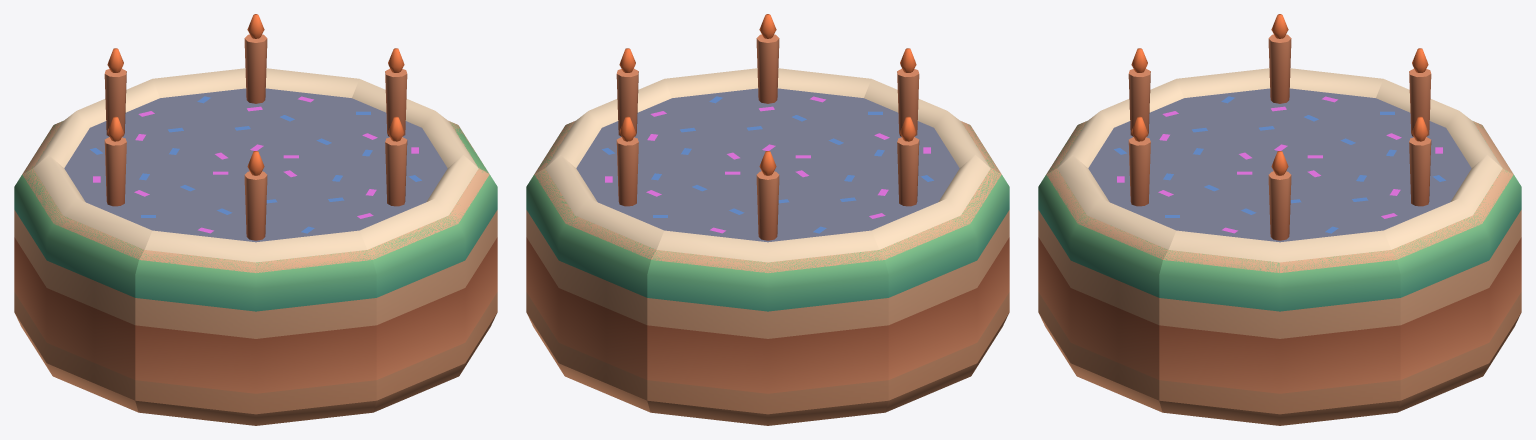
The model's file is cake-birthday.glb.
The picture shows the model from 3 angles, left to right: view 1: azimuth 30°, elevation 25°; view 2: azimuth 150°, elevation 25°; view 3: azimuth 270°, elevation 25°; orthographic projection.
Visible parts, largest first — view 1: slice, slice.001, slice.005, slice.003, slice.002, slice.004; view 2: slice.002, slice.001, slice.003, slice.005, slice, slice.004; view 3: slice.004, slice.003, slice.005, slice.001, slice, slice.002.
Part boxes in pixels (x1,y1,x2,y2): slice: (135, 151, 376, 425); slice.001: (14, 116, 249, 412); slice.005: (262, 116, 497, 412); slice.003: (152, 14, 359, 162); slice.002: (22, 48, 248, 173); slice.004: (263, 48, 489, 173); slice.002: (647, 151, 888, 425); slice.001: (774, 116, 1009, 412); slice.003: (526, 116, 761, 412); slice.005: (664, 14, 871, 162); slice: (775, 48, 1001, 173); slice.004: (534, 48, 760, 173); slice.004: (1159, 151, 1400, 425); slice.003: (1286, 116, 1521, 412); slice.005: (1038, 116, 1273, 412); slice.001: (1176, 14, 1383, 162); slice: (1046, 48, 1272, 173); slice.002: (1287, 48, 1513, 173).
Size of the model in its own units: 0.6392 by 0.3638 by 0.6392.
1 material, 1 textured.
